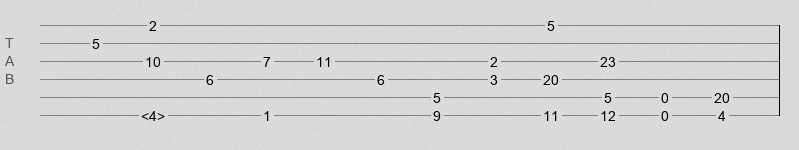0: (661, 108, 669, 118), (661, 90, 669, 100)
1: (263, 108, 271, 118)
10: (145, 54, 161, 64)
11: (316, 54, 332, 64), (543, 108, 559, 118)
12: (600, 108, 616, 118)
2: (149, 18, 157, 28), (490, 54, 498, 64)
20: (543, 72, 559, 82), (714, 90, 730, 100)
23: (600, 54, 616, 64)
3: (490, 72, 498, 82)
4: (718, 108, 726, 118)
5: (92, 36, 100, 46), (433, 90, 441, 100), (547, 18, 555, 28), (604, 90, 612, 100)
6: (206, 72, 214, 82), (377, 72, 385, 82)
7: (263, 54, 271, 64)
9: (433, 108, 441, 118)
harmonic: (141, 108, 165, 118)
